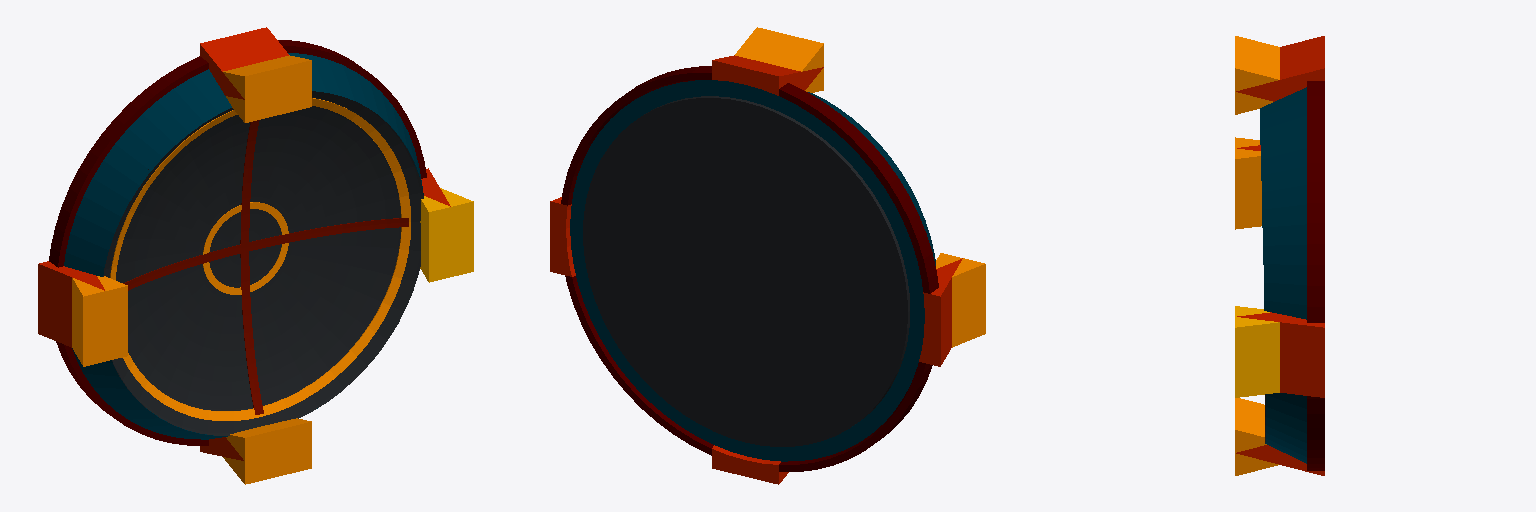
File: tinker.obj
3 views of the same model, side by side, from view 1: azimuth 30°, elevation 25°; view 2: azimuth 150°, elevation 25°; view 3: azimuth 270°, elevation 25° (orthographic).
Parts seen in each view (by area): view 1: obj_0; view 2: obj_0; view 3: obj_0.
Part boxes in pixels (bbox=[...]): obj_0: bbox=[38, 27, 473, 484]; obj_0: bbox=[550, 27, 985, 484]; obj_0: bbox=[1235, 36, 1324, 475].
Bounding box in the file's own units: 500 × 500 × 100.